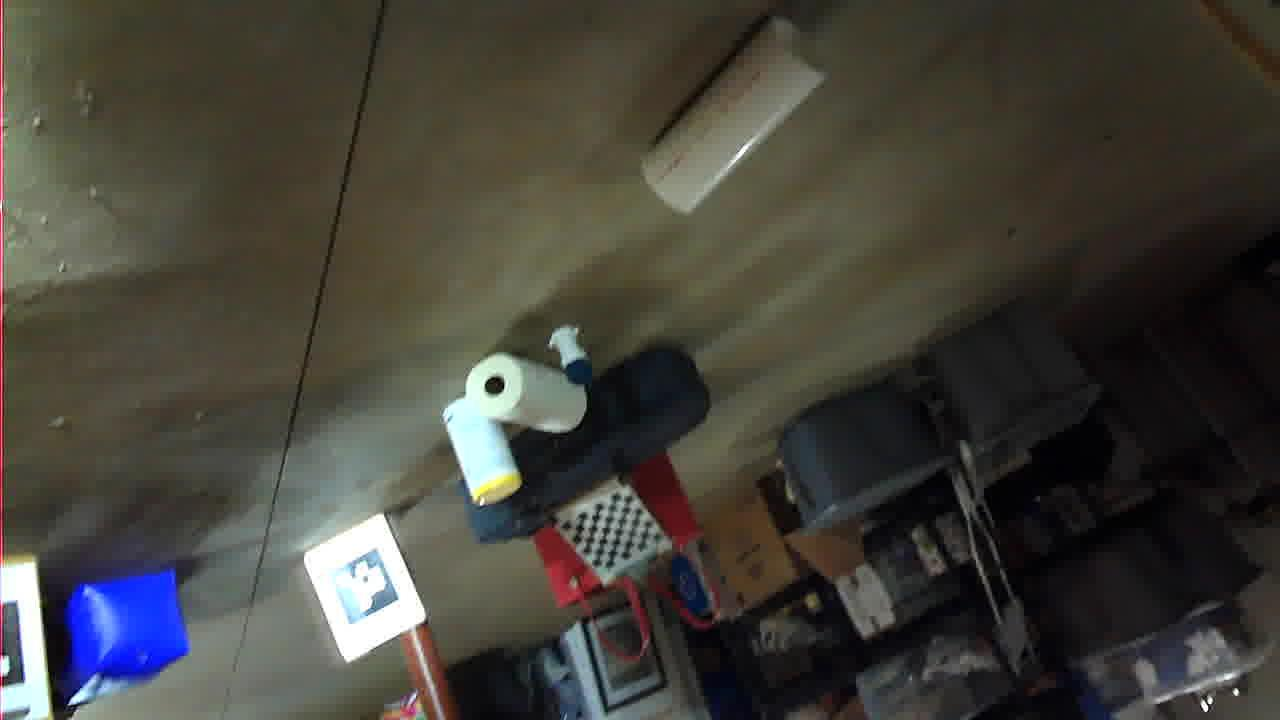coral: (454, 506, 637, 704)
